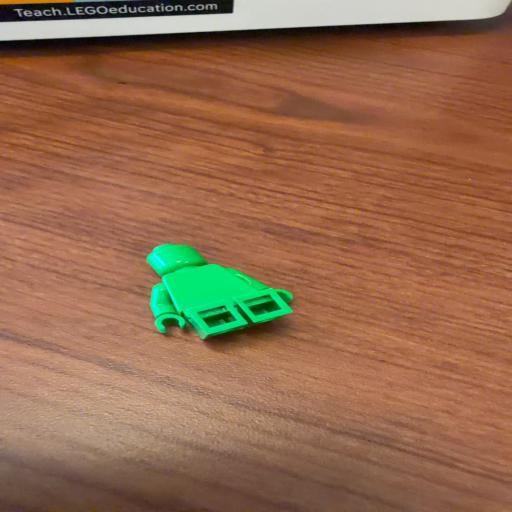UnoQ-minifig-detector: (147, 244, 293, 339), (0, 0, 78, 5)
